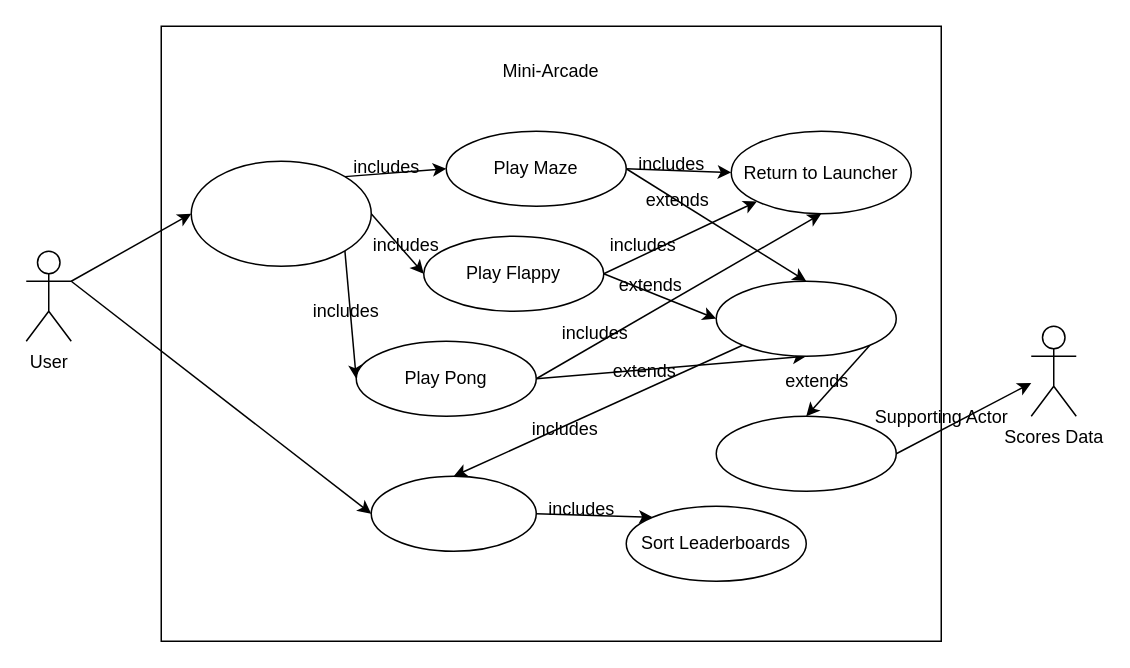
Some shapes in this 1130 by 668 pixel diagram are drawn without their labels. Each missing label, with the centre of its shape:
Display Score: the point at 805,318
Save Score: the point at 805,453
Selecting a Game: the point at 280,213
View Leaderboards: the point at 453,513
